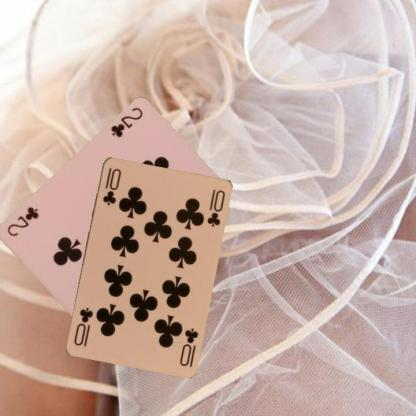10c: (177, 325, 199, 367), (100, 165, 122, 206)
2c: (108, 105, 144, 139)
